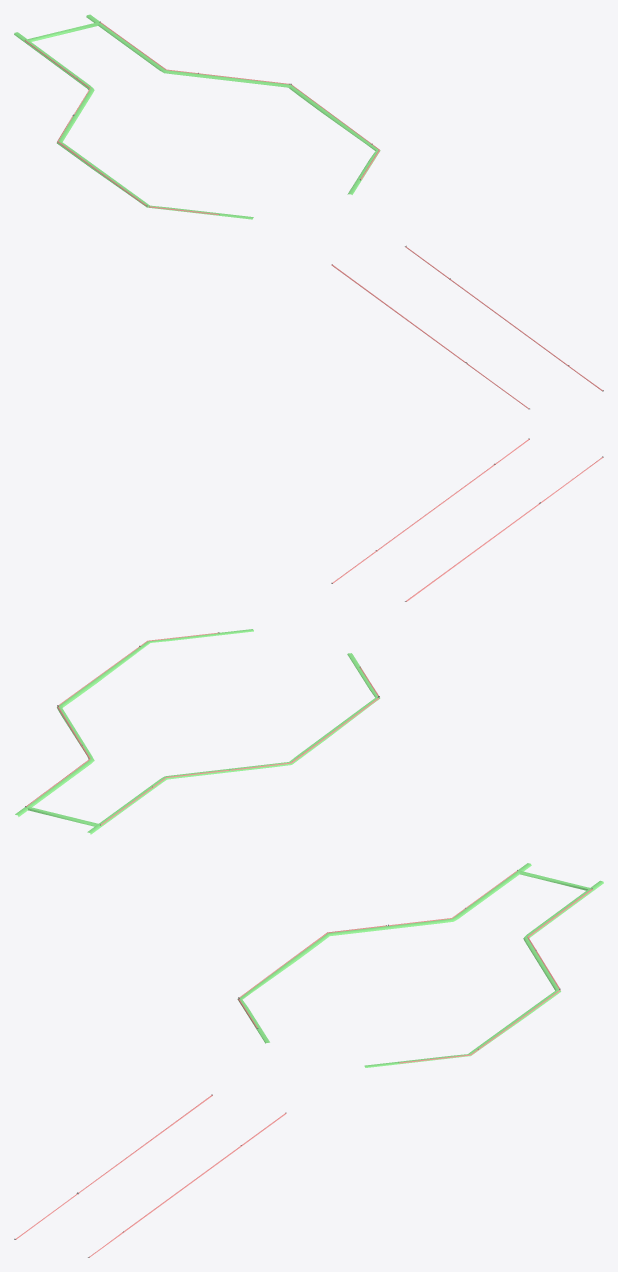
Rendered from SM_ENV_LKNVLD_Event_HL_Line_Ground_A.gltf.
3 views of the same model, one above another, from view 1: azimuth 30°, elevation 25°; view 2: azimuth 150°, elevation 25°; view 3: azimuth 330°, elevation 25° (orthographic).
Parts seen in each view (by area): view 1: SM_ENV_LKNVLD_Event_HL_Line_Ground_A; view 2: SM_ENV_LKNVLD_Event_HL_Line_Ground_A; view 3: SM_ENV_LKNVLD_Event_HL_Line_Ground_A.
Boxes of the visible parts, x1=… form: SM_ENV_LKNVLD_Event_HL_Line_Ground_A: x1=14, y1=14, x2=603, y2=409; SM_ENV_LKNVLD_Event_HL_Line_Ground_A: x1=15, y1=438, x2=603, y2=834; SM_ENV_LKNVLD_Event_HL_Line_Ground_A: x1=14, y1=863, x2=603, y2=1257.
Size of the model in its own units: 26.2 by 0.2685 by 99.15.
